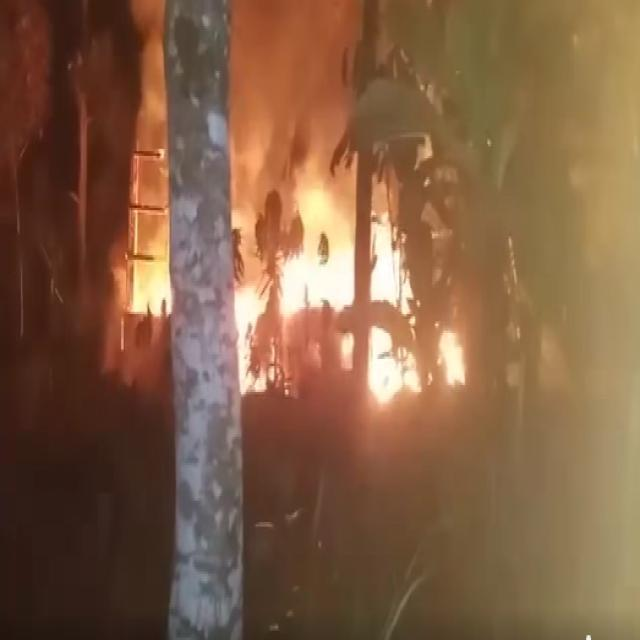Fire: (238, 180, 468, 405)
Smoke: (418, 0, 640, 640)
